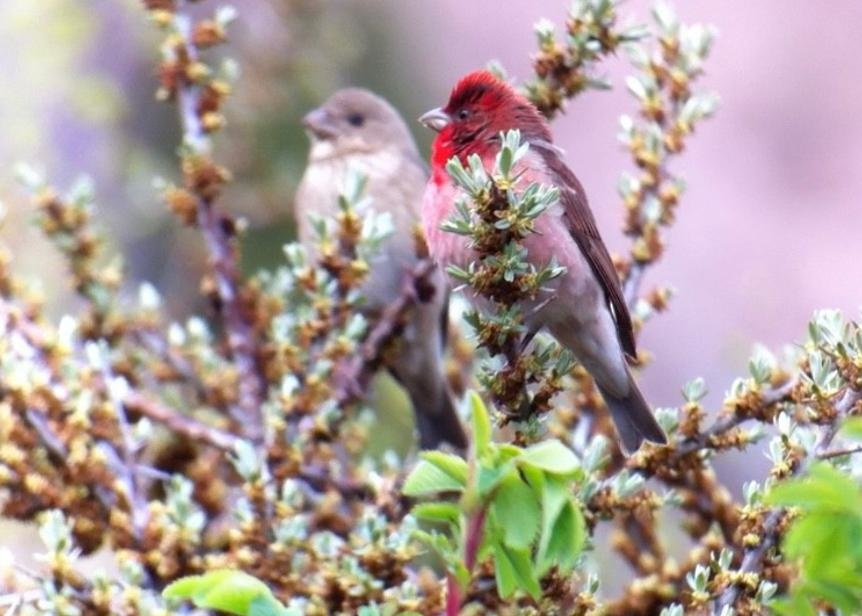rosefinch: (410, 71, 652, 373)
